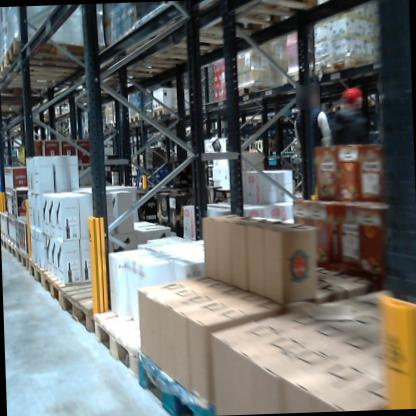pallet: (94, 305, 165, 403), (133, 344, 229, 416), (59, 281, 144, 348), (5, 33, 101, 75), (0, 52, 99, 83), (43, 266, 94, 310), (317, 54, 373, 76), (330, 83, 365, 115), (27, 254, 55, 291), (231, 78, 277, 99), (285, 65, 325, 89), (151, 107, 184, 120), (15, 246, 30, 273), (7, 240, 17, 264), (238, 117, 260, 126), (126, 114, 142, 126), (260, 115, 276, 122), (2, 231, 7, 251)
